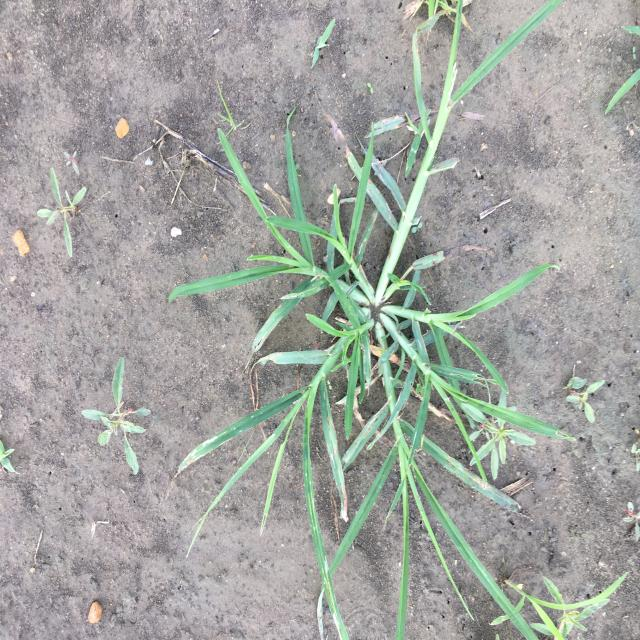Goosegrass: (166, 4, 630, 639)
Waterhemp: (79, 353, 155, 478), (458, 386, 538, 483), (35, 167, 89, 260), (563, 373, 607, 425)
